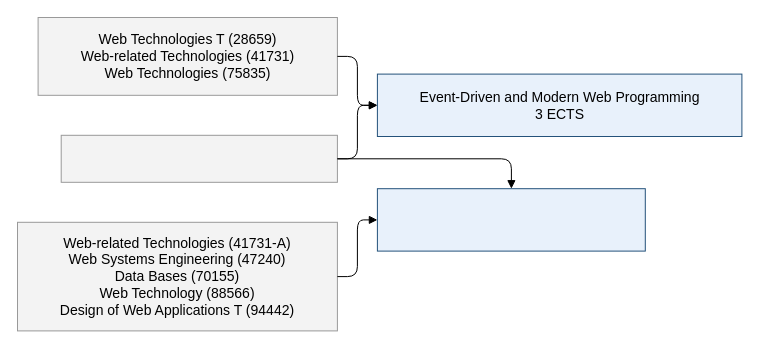
Some shapes in this 760 by 349 pixel diagram are drawn without their labels. The shapes that lost their labels are listed below. From the top down, each one's centre as x and y in pixels, then its label:
At (198,158): "Distributed Systems M (73025)".
At (510,219): "Web Application Development 3 ECTS".
